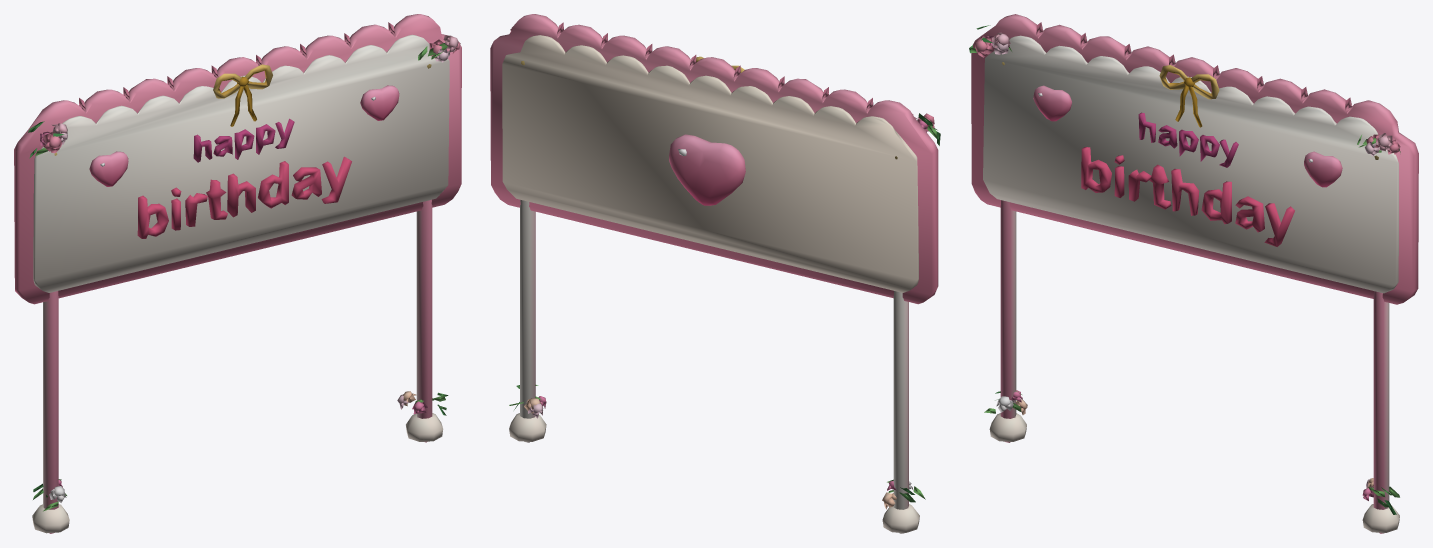
The model's file is prp_anniv_sign_bday_lite.glb.
3 renders of one model, left to right at view 1: azimuth 30°, elevation 25°; view 2: azimuth 150°, elevation 25°; view 3: azimuth 330°, elevation 25°, orthographic.
Parts seen in each view (by area): view 1: INST_prp_anniv_sign_bday_lite_sign_bday; view 2: INST_prp_anniv_sign_bday_lite_sign_bday; view 3: INST_prp_anniv_sign_bday_lite_sign_bday.
Boxes of the visible parts, <box> form: INST_prp_anniv_sign_bday_lite_sign_bday: <box>14,14,461,533</box>; INST_prp_anniv_sign_bday_lite_sign_bday: <box>490,14,940,533</box>; INST_prp_anniv_sign_bday_lite_sign_bday: <box>969,14,1418,533</box>.
Bounding box in the file's own units: 4.76 × 4.39 × 0.6091.
